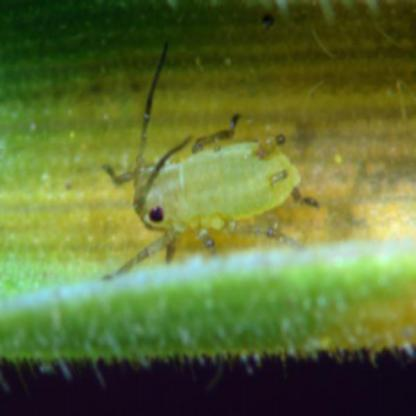schizaphis graminum: (106, 44, 319, 277)
